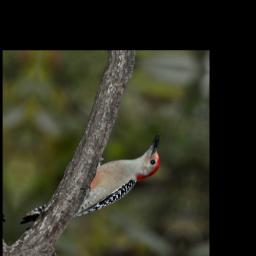Woodpecker: (19, 117, 165, 242)
